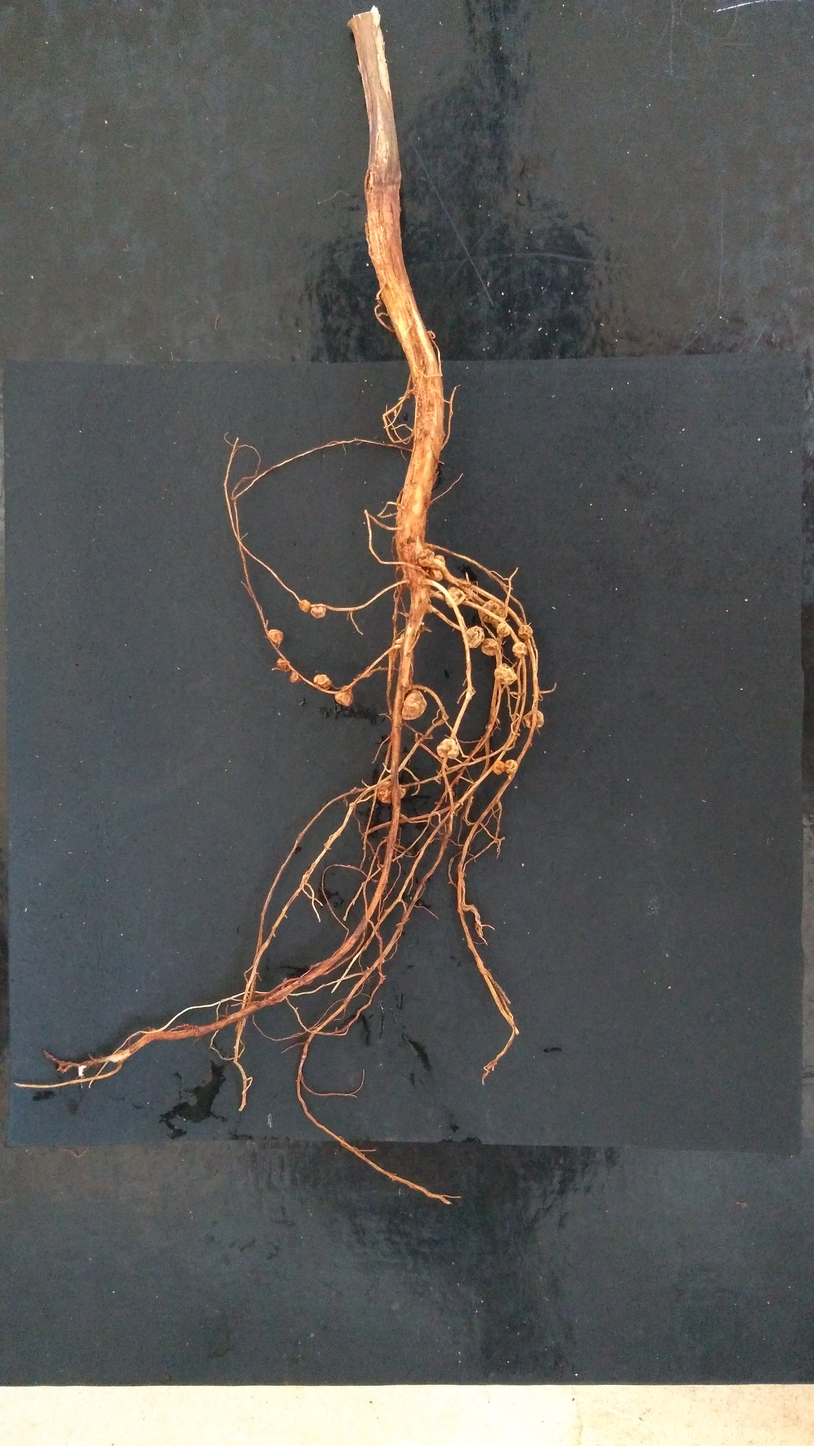nodule: (401, 688, 427, 720), (478, 599, 509, 625), (376, 780, 405, 804), (493, 662, 518, 685), (435, 738, 460, 759), (465, 625, 485, 649), (523, 708, 544, 728), (429, 555, 445, 581), (334, 686, 354, 706), (445, 587, 465, 607), (481, 637, 500, 656), (313, 673, 333, 691), (417, 548, 434, 567), (511, 642, 529, 658), (267, 629, 284, 644), (496, 621, 511, 638), (517, 624, 533, 639), (492, 760, 506, 775), (504, 759, 518, 774), (310, 606, 326, 618), (298, 599, 311, 612), (277, 658, 290, 670), (289, 671, 301, 683)
